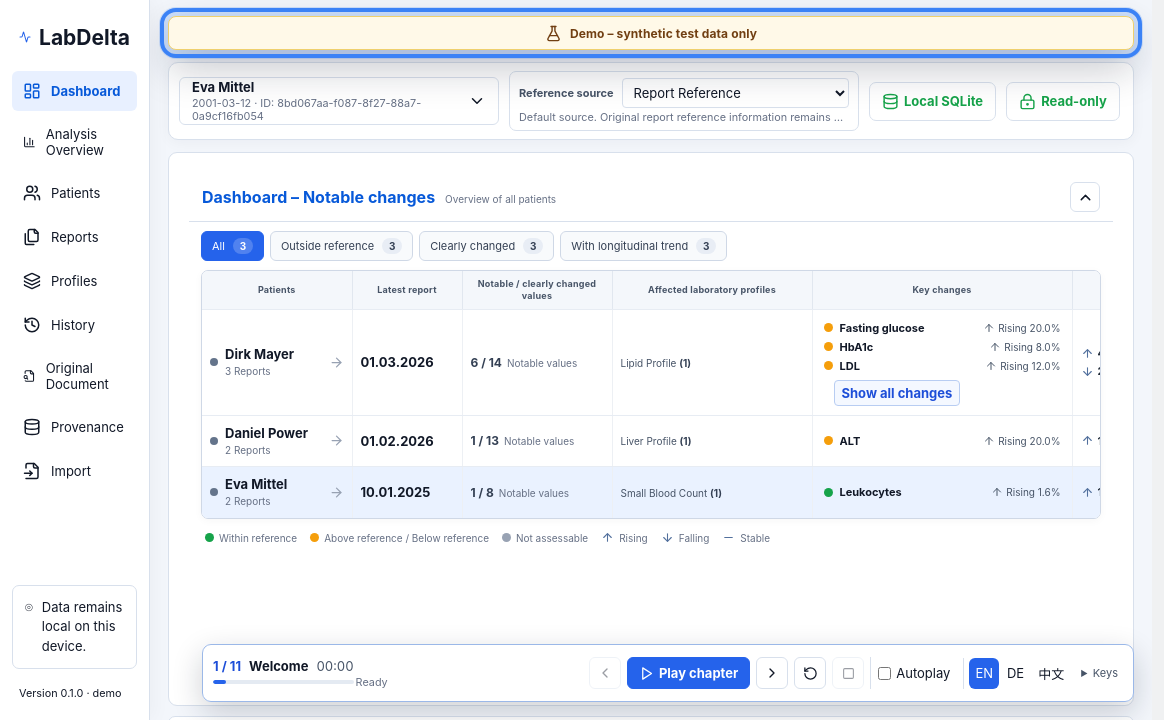
Scenario: persisted synthetic demo flow › localizes the change expansion labels with the existing demo language
The width and height of the screenshot is (1164, 720).
Check: the heading "Dashboard – Notable changes" is shown, box [202,187,435,207]
Check: the button "Show all changes" is shown, box [834,380,960,406]
Click the button "DE" at (1016, 673), box [1001,658,1030,688]
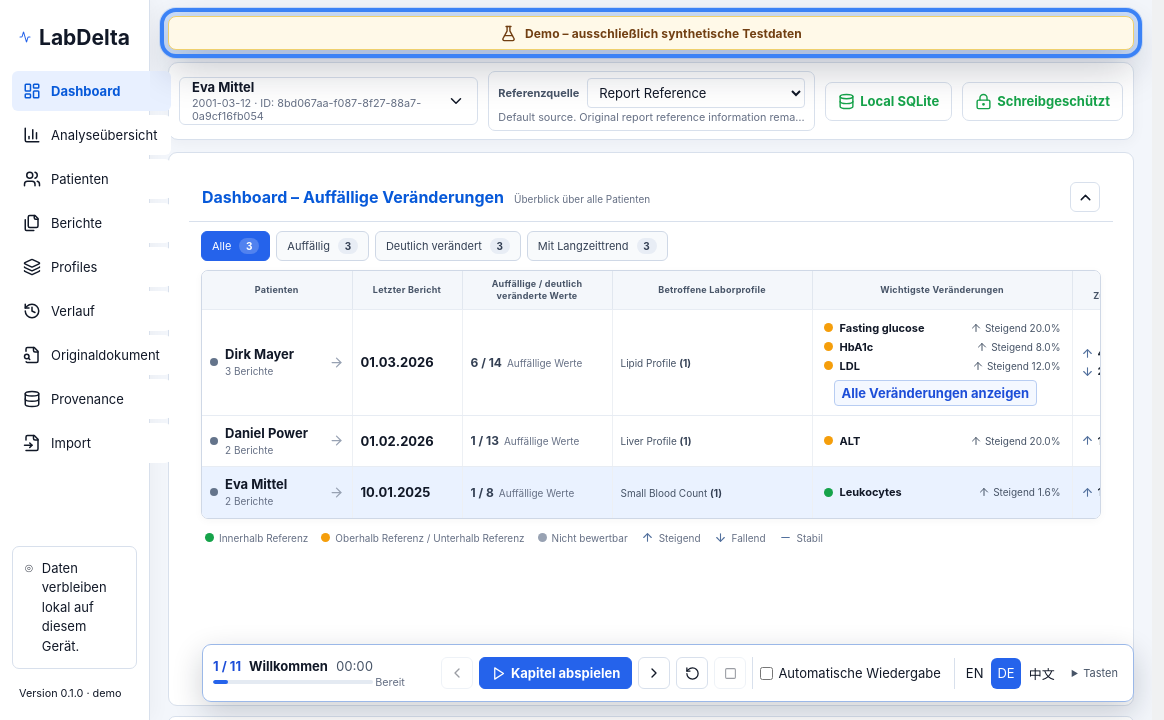
Check: the button "Alle Veränderungen anzeigen" is shown, box [834,380,1037,406]
